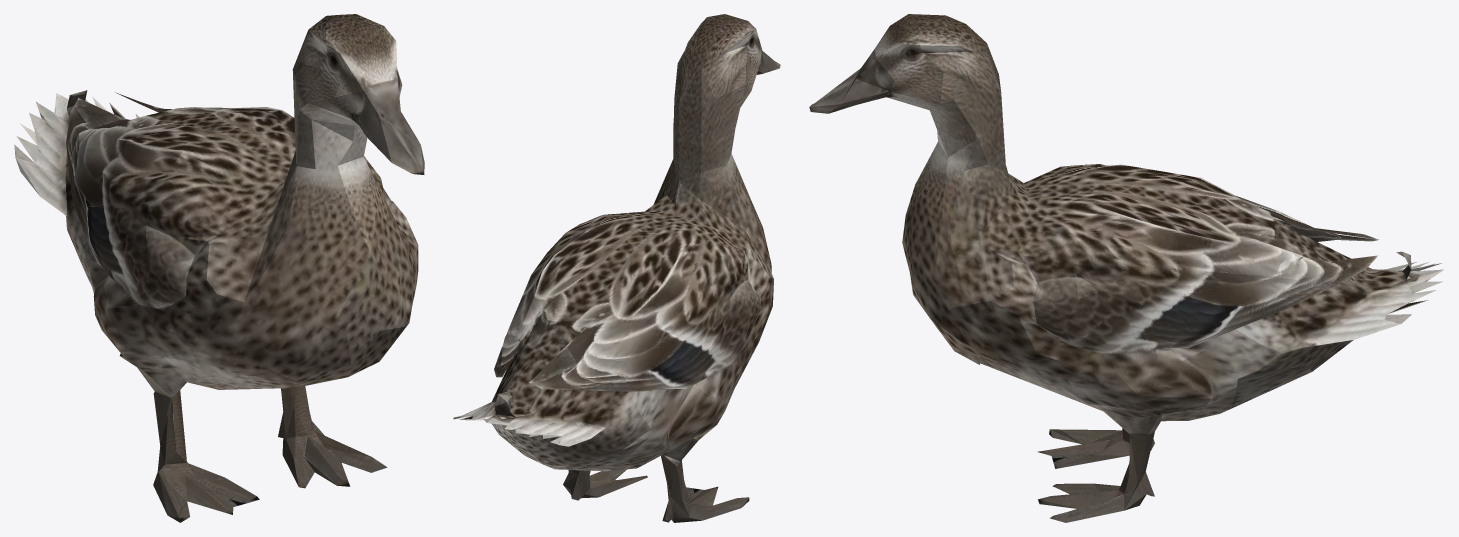
Rendered from duck.glb.
3 renders of one model, left to right at view 1: azimuth 30°, elevation 25°; view 2: azimuth 150°, elevation 25°; view 3: azimuth 270°, elevation 25°, orthographic. The views are drawn at different scales.
Visible parts, largest first — view 1: output_unwrapped; view 2: output_unwrapped; view 3: output_unwrapped.
Boxes of the visible parts, box(x1,y1,x2,y2) form: output_unwrapped: box(14, 14, 424, 522); output_unwrapped: box(453, 14, 780, 522); output_unwrapped: box(809, 14, 1443, 522).
Bounding box in the file's own units: 0.1894 × 0.4 × 0.4994.
Materials: 1 (1 with a texture image).
